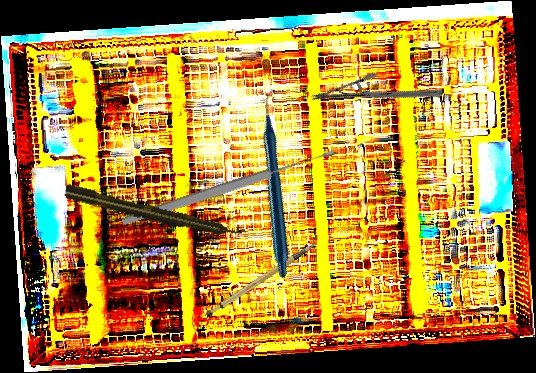Handpiece: (191, 88, 365, 279), (63, 182, 246, 244)
Needle Holder: (309, 35, 445, 155)
Scalpel Handle: (197, 241, 328, 320)
Surgical Spoon: (119, 146, 338, 229)
